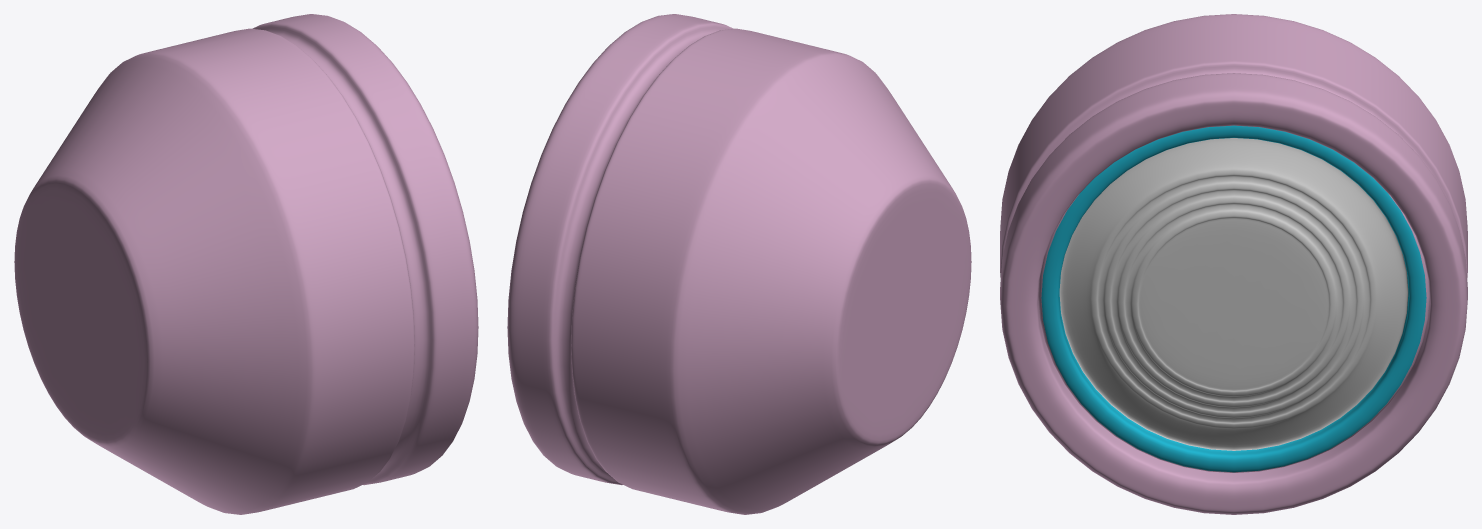
3 renders of one model, left to right at view 1: azimuth 30°, elevation 25°; view 2: azimuth 150°, elevation 25°; view 3: azimuth 270°, elevation 25°, orthographic.
Visible parts, largest first — view 1: Cylinder.014; view 2: Cylinder.014; view 3: Cylinder.014.
Part boxes in pixels (box(x1,y1,x2,y2)): Cylinder.014: box(14, 14, 478, 514); Cylinder.014: box(507, 14, 971, 514); Cylinder.014: box(1000, 14, 1467, 514).
Bounding box in the file's own units: 0.617 × 0.894 × 0.894.
